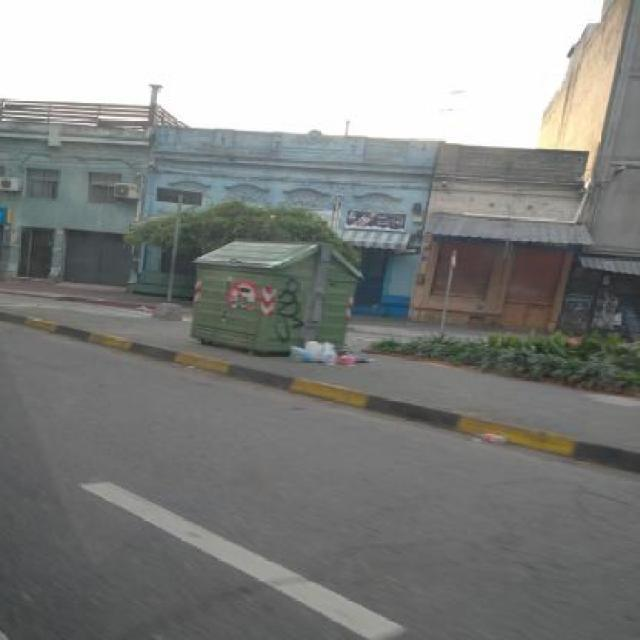garbage: (291, 336, 368, 369)
